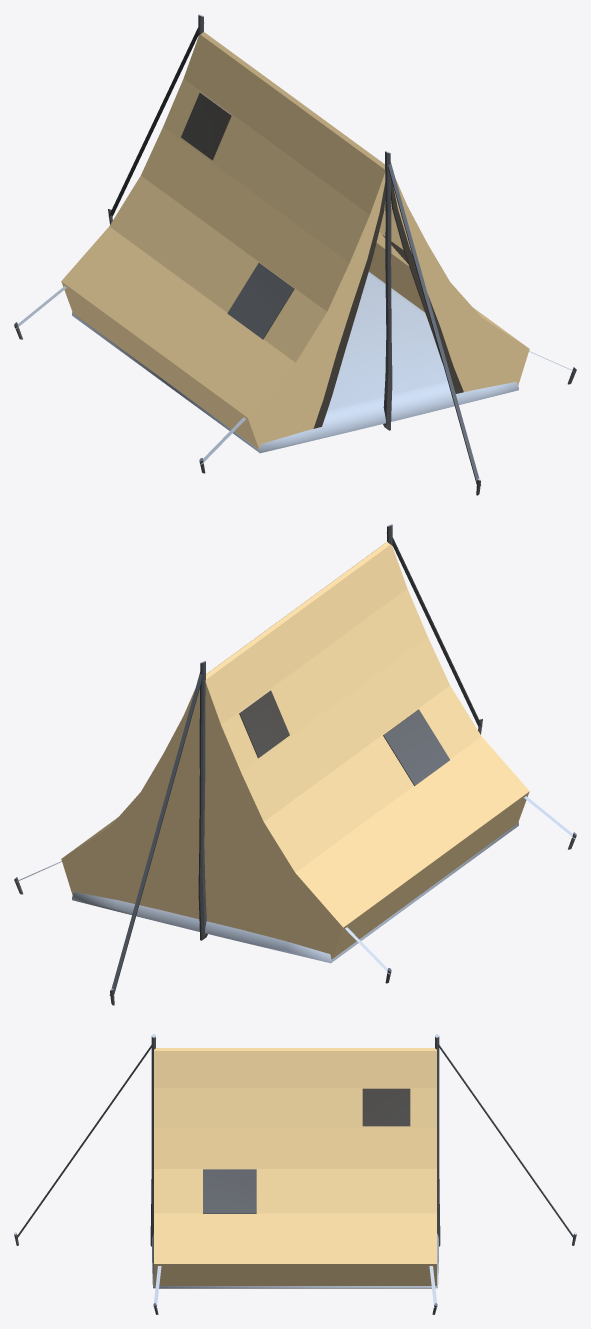
Rendered from tent_canvas.glb.
3 renders of one model, top to bottom at view 1: azimuth 30°, elevation 25°; view 2: azimuth 150°, elevation 25°; view 3: azimuth 270°, elevation 25°, orthographic. The views are drawn at different scales.
Parts seen in each view (by area): view 1: Prop; view 2: Prop; view 3: Prop.
Part boxes in pixels (<box>): Prop: <box>14,14,576,495</box>; Prop: <box>14,524,576,1005</box>; Prop: <box>14,1034,576,1314</box>.
Size of the model in its own units: 2.12 by 1.5 by 3.61.
